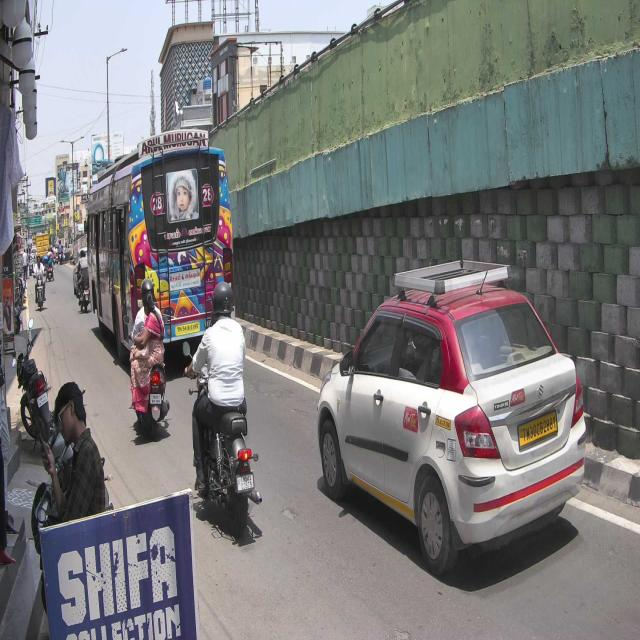double_rider: (122, 277, 170, 438)
single_rider: (183, 282, 263, 529)
